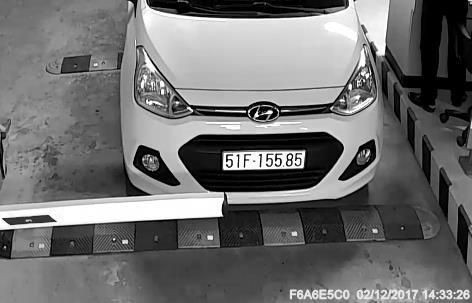License-plate: (219, 143, 315, 176)
